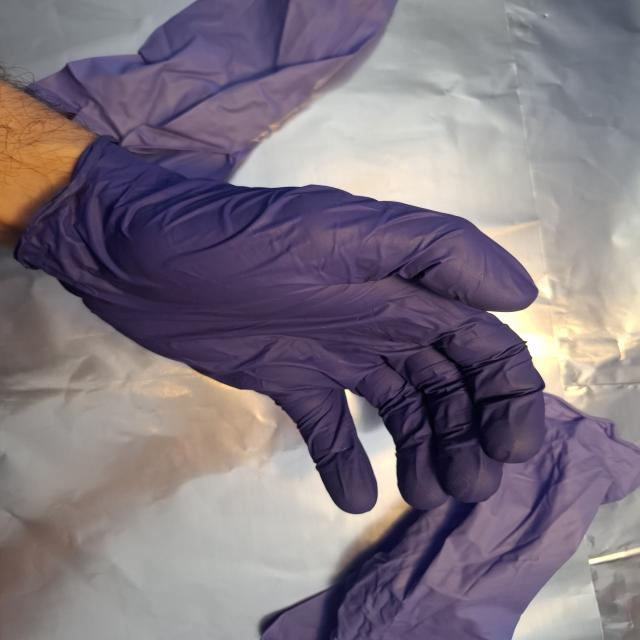glove_on: (17, 136, 553, 517)
